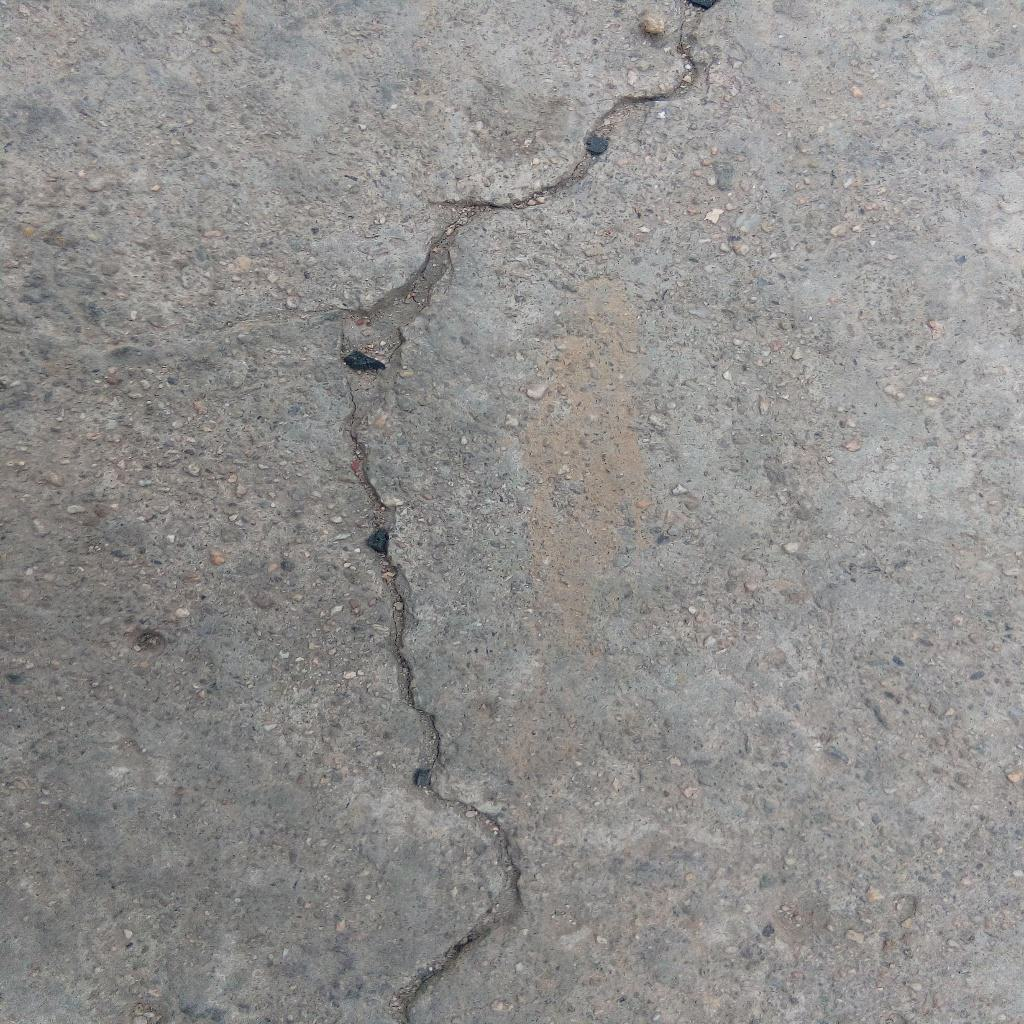Crack: (337, 1, 721, 1024)
